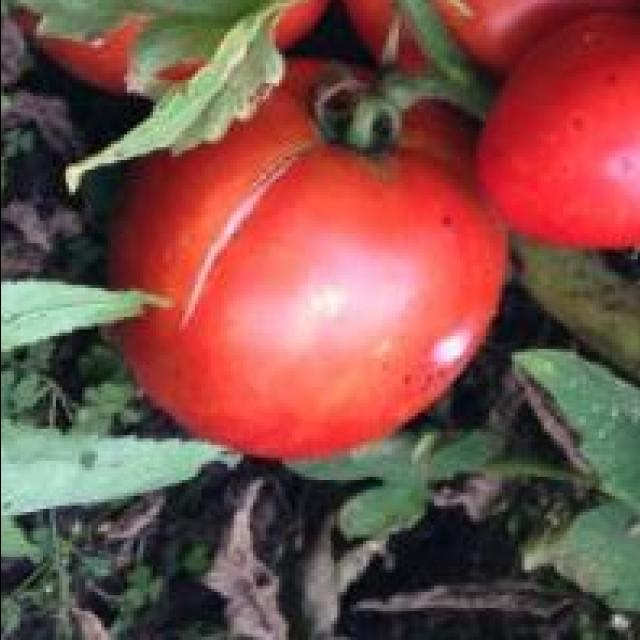Healthy: (492, 19, 640, 237)
